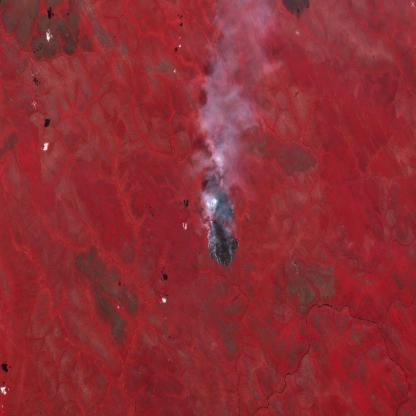fire: (204, 186, 242, 271)
